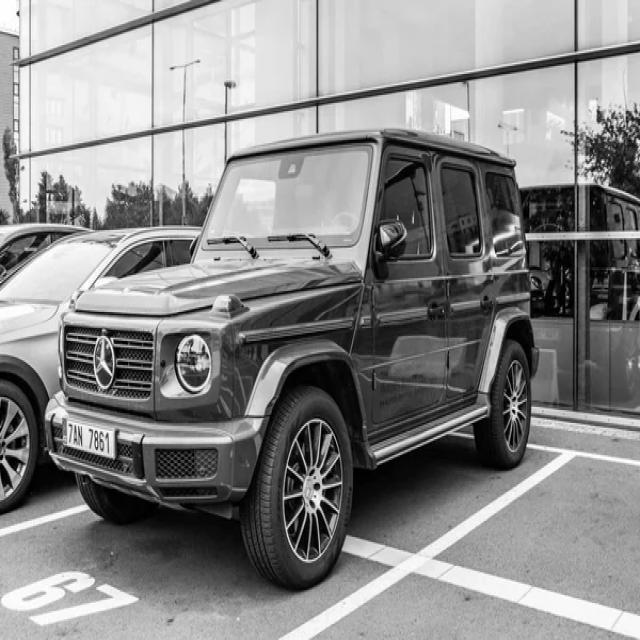Car: (45, 129, 540, 589), (0, 226, 198, 512)
